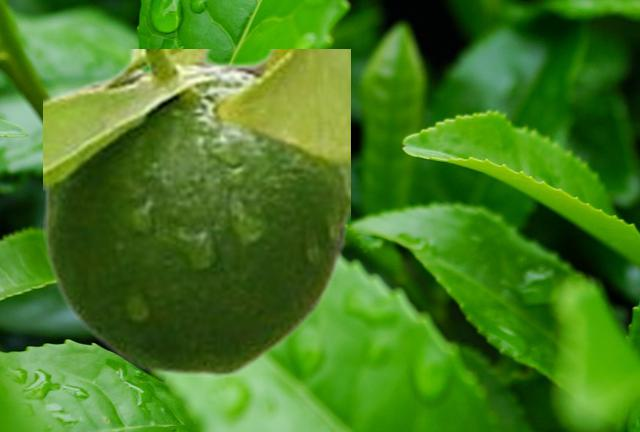dalandan: (43, 49, 349, 375)
